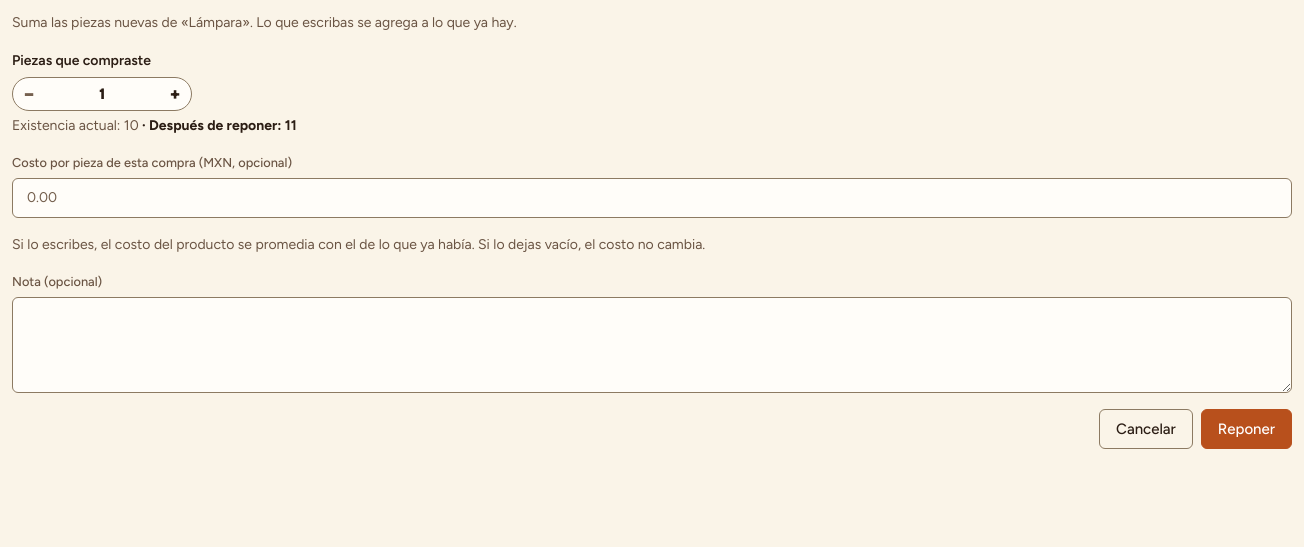
Test: ProductRestockForm › validación (no manda nada y marca el campo) › un costo que no se entiende
Type "100,50" into the field labelled "Costo por pieza de esta compra (MXN, opcional)" at (652, 198), box [12,178,1292,218]
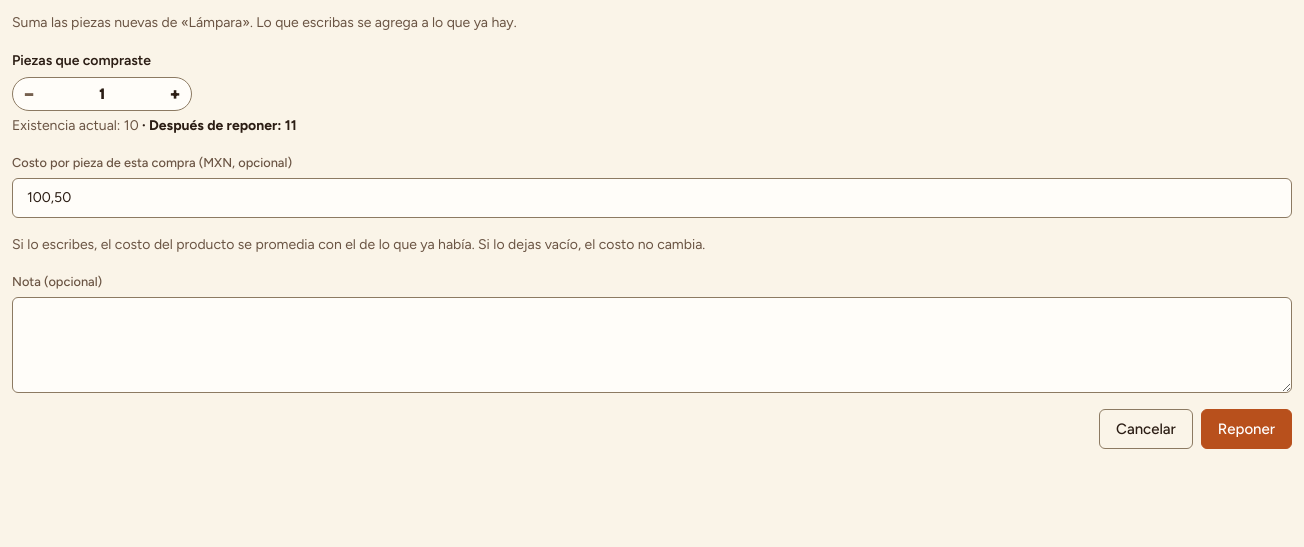
Submit the form
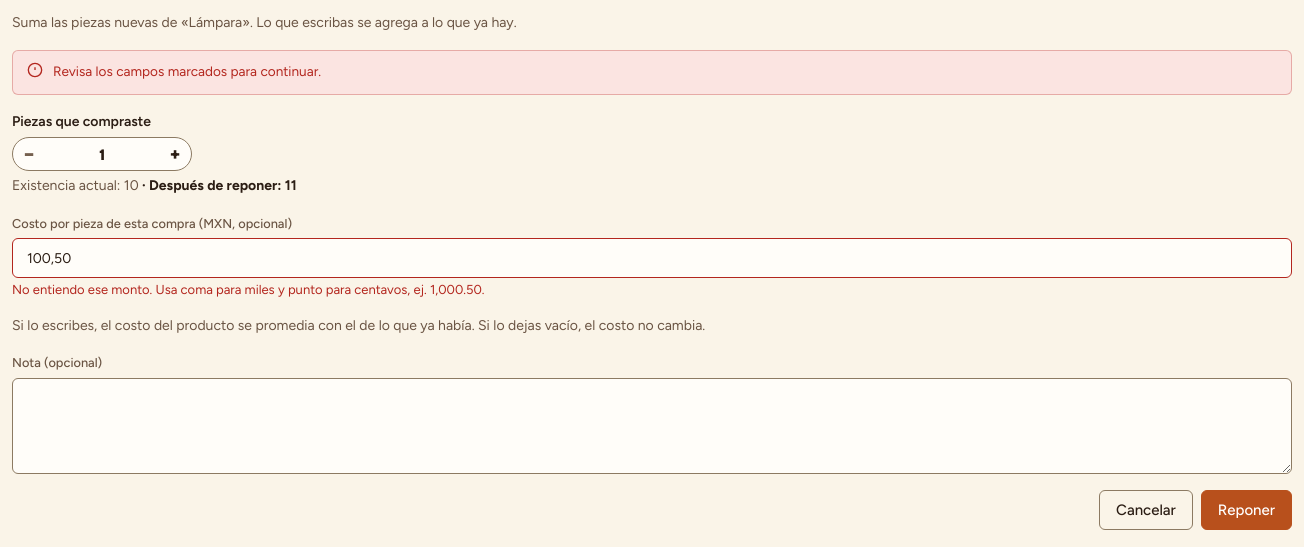
Check: the text "No entiendo ese monto" is shown, box [12,282,484,297]
